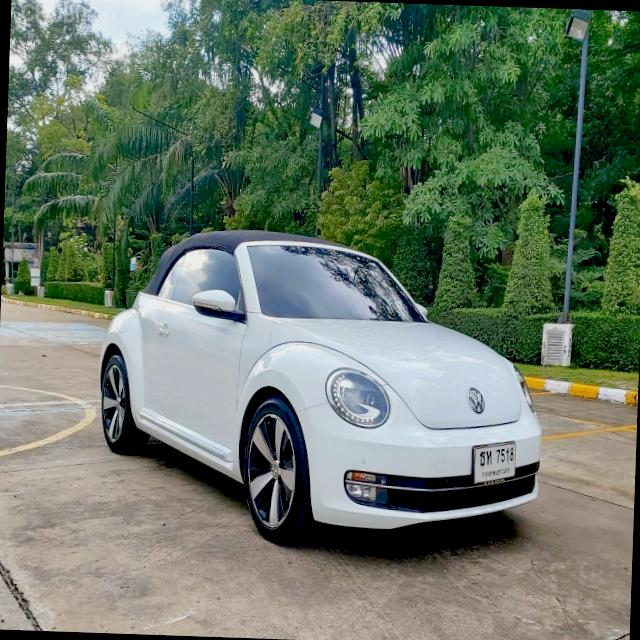license_plate: (468, 438, 518, 487)
